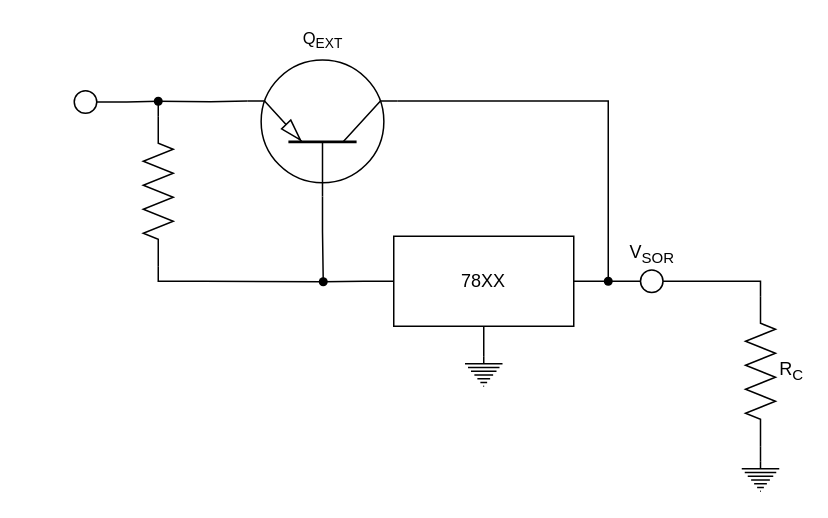
Some shapes in this 828 by 518 pixel diagram are drawn without their labels. Each missing label, with the box of its shape:
R EXT: (142, 115, 173, 266)
V ENT: (73, 89, 97, 113)
